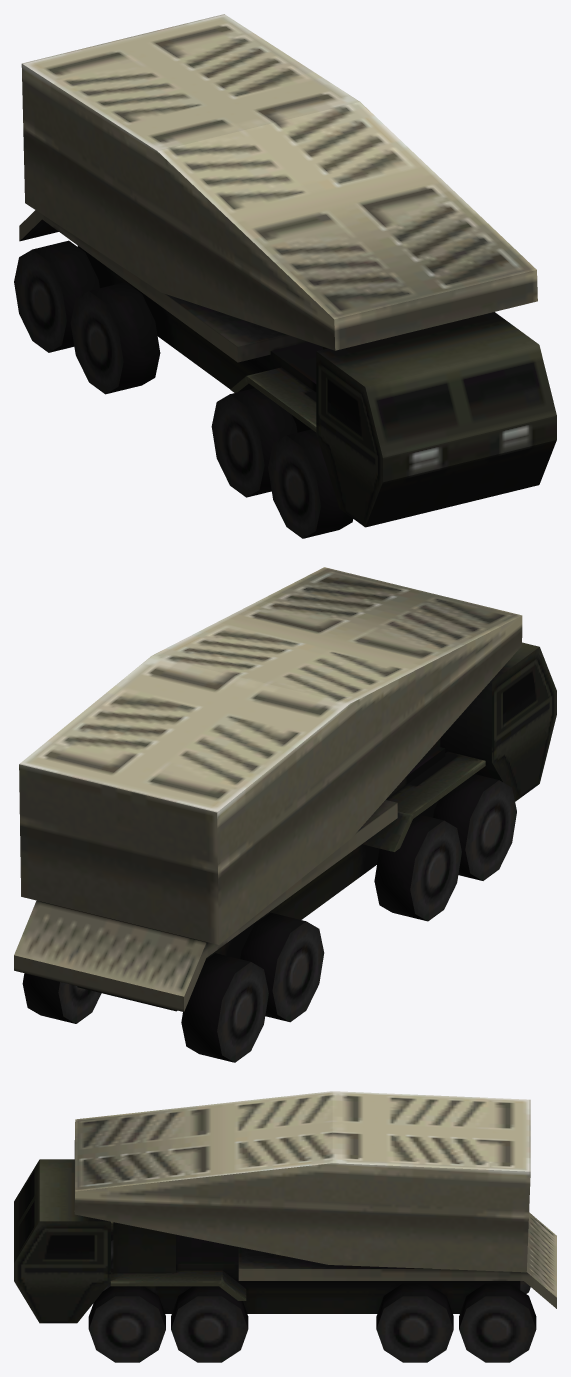
Rendered from Bridge_Transporter.DAE.
3 views of the same model, one above another, from view 1: azimuth 30°, elevation 25°; view 2: azimuth 150°, elevation 25°; view 3: azimuth 270°, elevation 25° (orthographic). The views are drawn at different scales.
Parts seen in each view (by area): view 1: _1171_BridgeTransporter; view 2: _1171_BridgeTransporter; view 3: _1171_BridgeTransporter.
Boxes of the visible parts, bbox=[...] form: _1171_BridgeTransporter: bbox=[14, 14, 556, 538]; _1171_BridgeTransporter: bbox=[14, 567, 556, 1062]; _1171_BridgeTransporter: bbox=[14, 1091, 556, 1362].
Bounding box in the file's own units: 72.51 × 92.8 × 226.
1 material, 1 textured.
